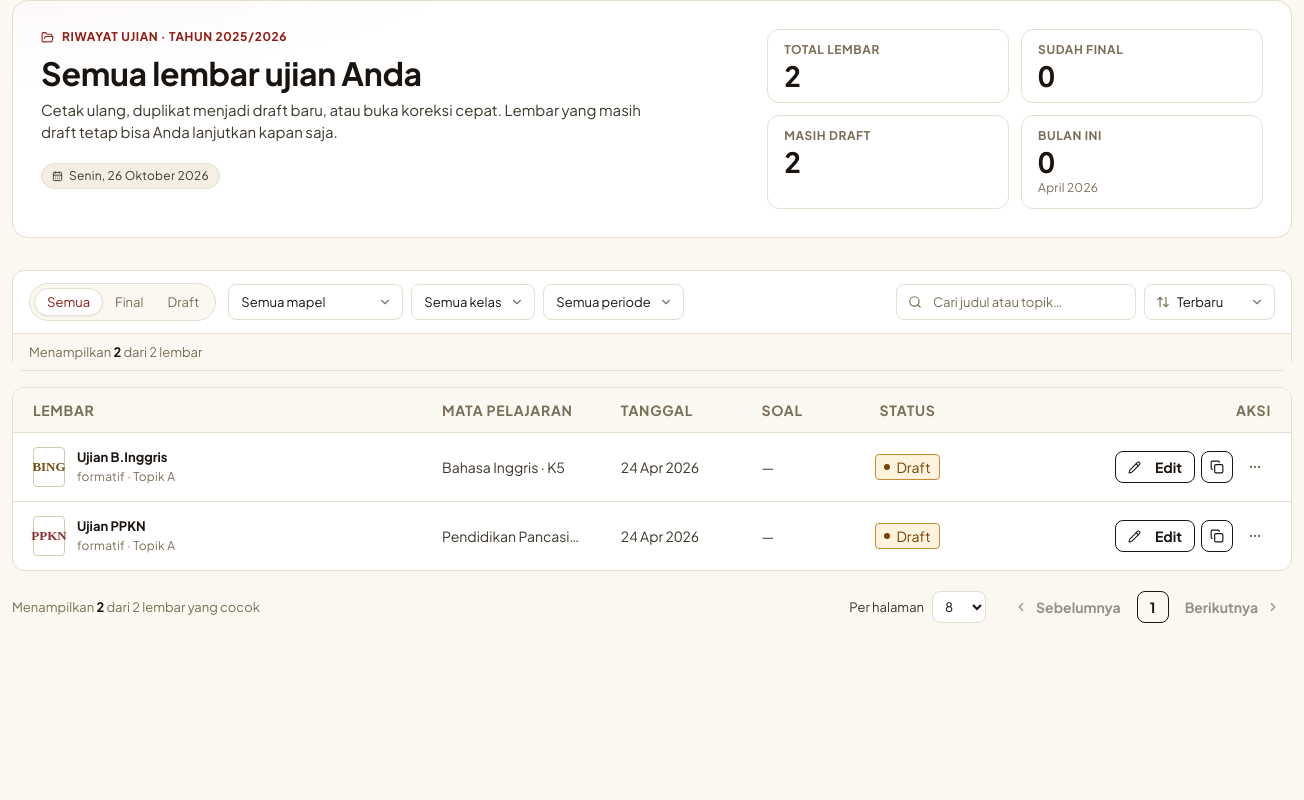
Test case: HistoryPage › filters history by Bahasa Inggris subject
Expected: the button "Ujian B.Inggris" is shown, [77, 449, 175, 467]
Step 1. Select "Bahasa Inggris" in the dropdown named "Filter mata pelajaran" → (316, 302), box [228, 284, 403, 320]
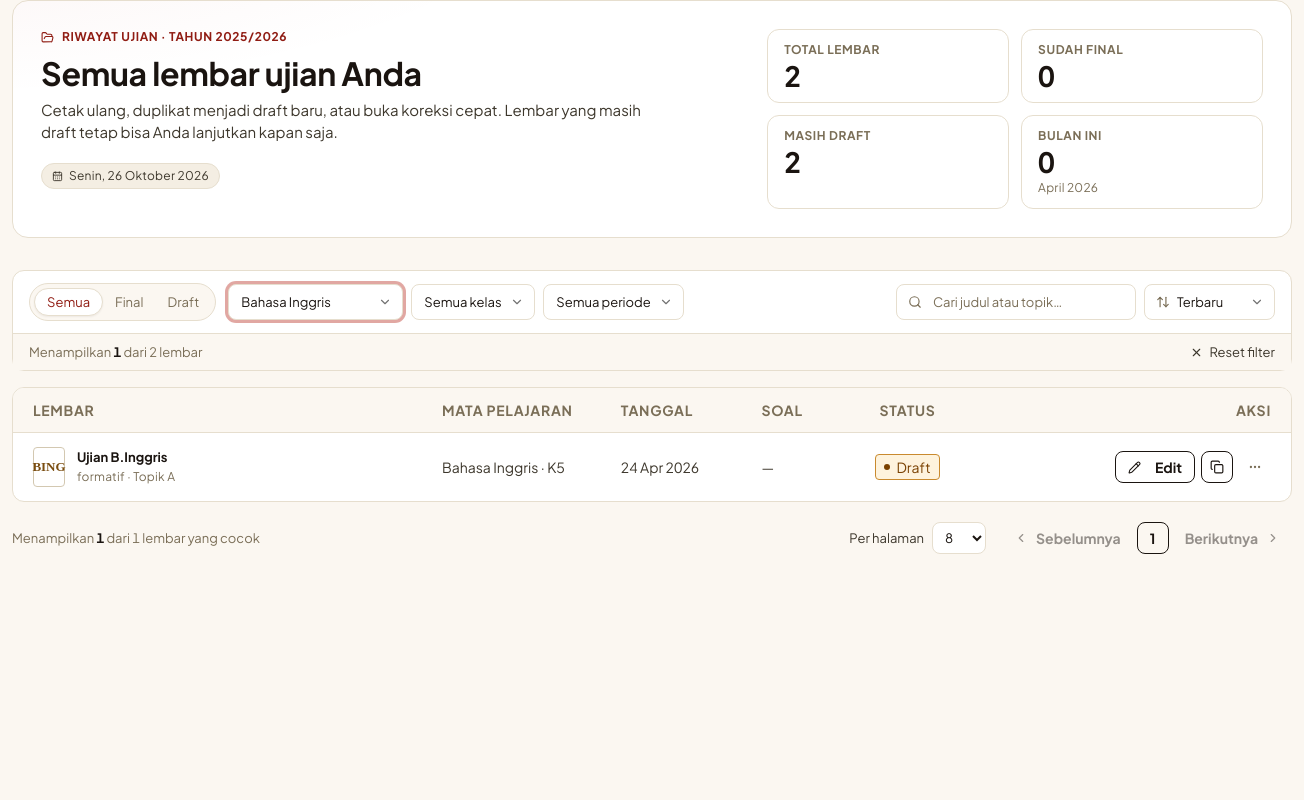
Expected: the button "Ujian B.Inggris" is shown, [77, 449, 175, 467]
Expected: the button "Ujian PPKN" is gone
